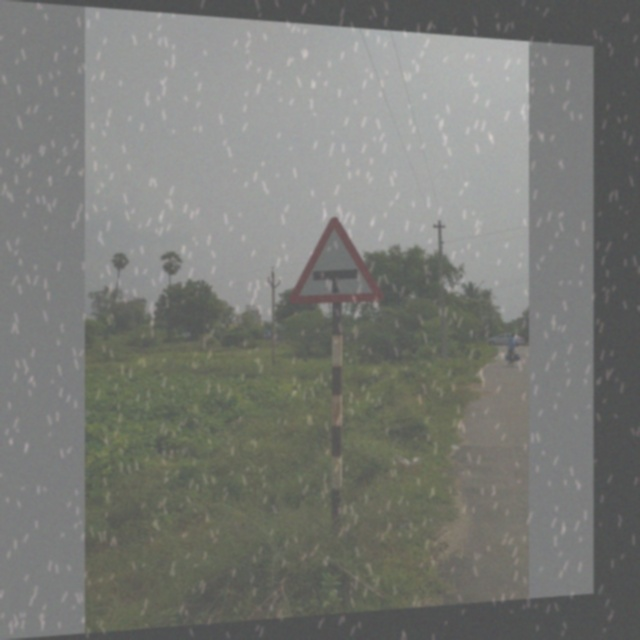T_Intersection: (277, 197, 386, 312)
